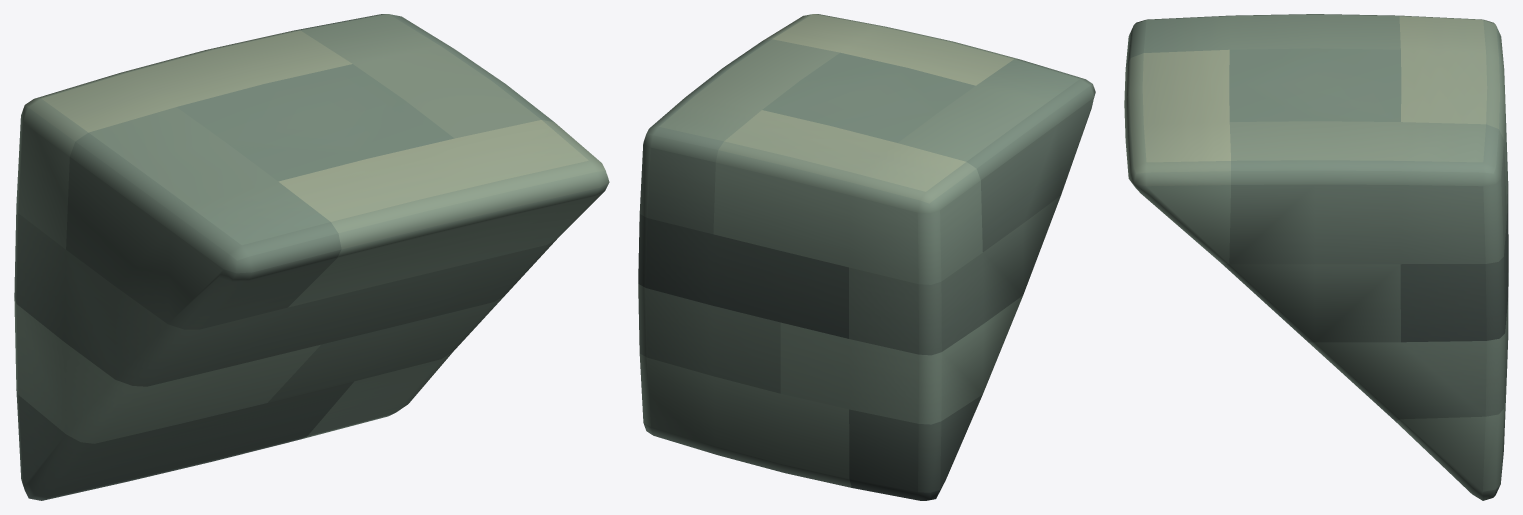
File: Stone_4x4_SlopeUnder.fbx
3 renders of one model, left to right at view 1: azimuth 30°, elevation 25°; view 2: azimuth 150°, elevation 25°; view 3: azimuth 270°, elevation 25°, orthographic. The views are drawn at different scales.
Parts seen in each view (by area): view 1: Stone_4x4_SlopeUnder_LOD0; view 2: Stone_4x4_SlopeUnder_LOD0; view 3: Stone_4x4_SlopeUnder_LOD0.
Boxes of the visible parts, x1,y1,x2,y2 form: Stone_4x4_SlopeUnder_LOD0: (14,14,609,500); Stone_4x4_SlopeUnder_LOD0: (638,14,1095,500); Stone_4x4_SlopeUnder_LOD0: (1124,14,1508,500).
Size of what is drawn, in the model's own units: 1.09 by 1.08 by 1.08.
